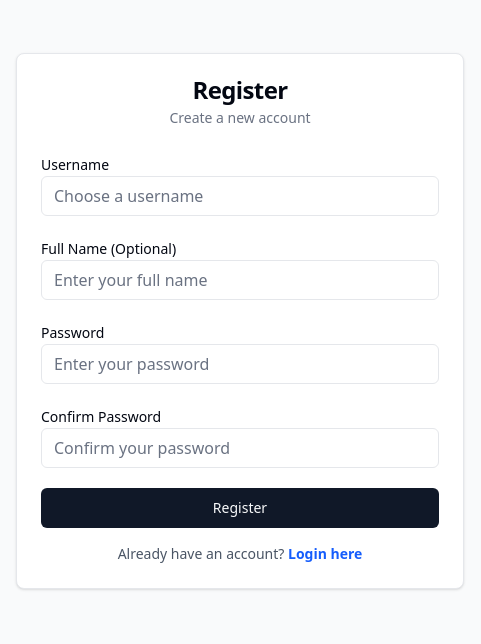
Test case: RegisterForm › shows error if username is too short
Type "ab" into the field labelled "Username" at (240, 196), box 41,176 -> 439,216
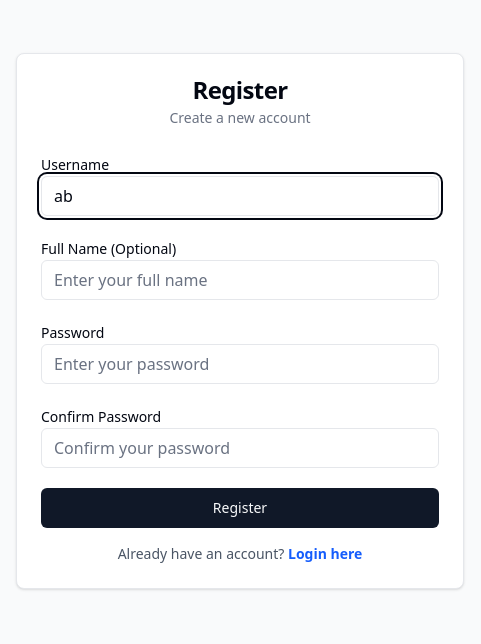
Type "123" into the password field labelled "Password" at (240, 364), box 41,344 -> 439,384
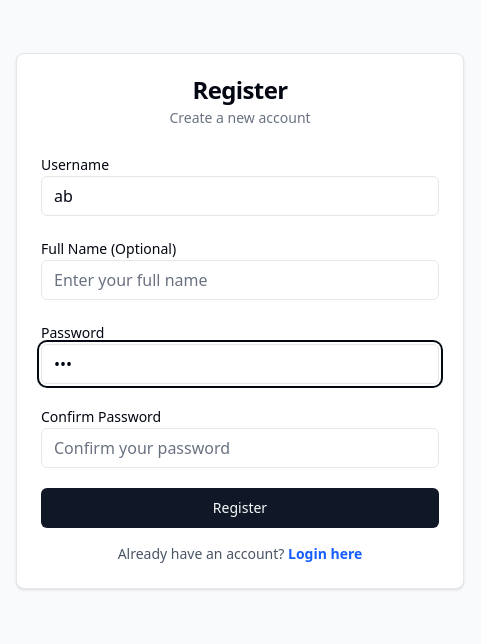
Type "123" into the password field labelled "Confirm Password" at (240, 448), box 41,428 -> 439,468
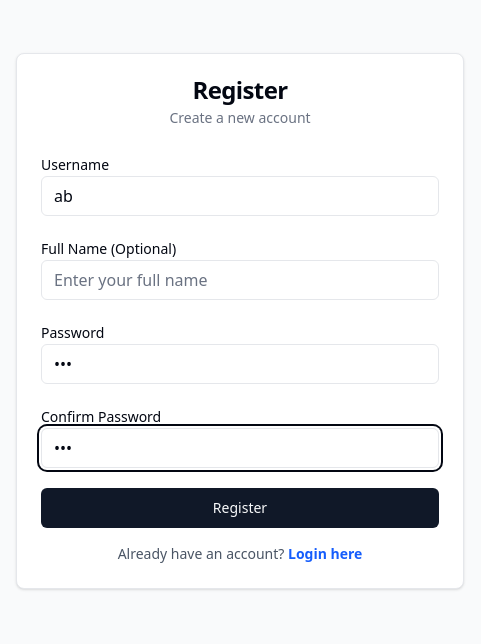
Click the button "Register" at (240, 508), box 41,488 -> 439,528
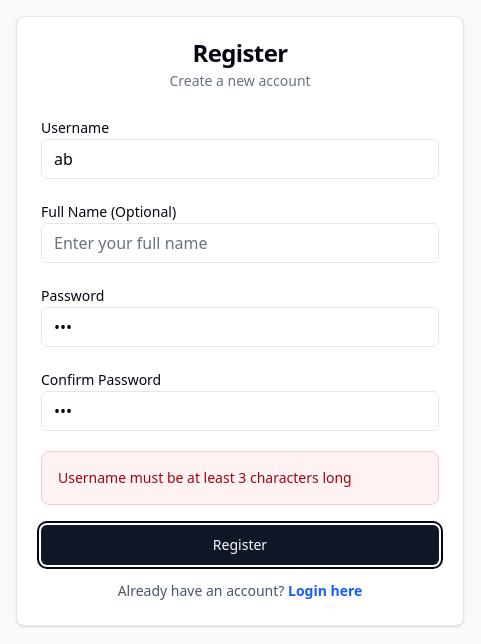
Check: the text "Username must be at least 3 characters long" is shown, box 58,468 -> 352,487
